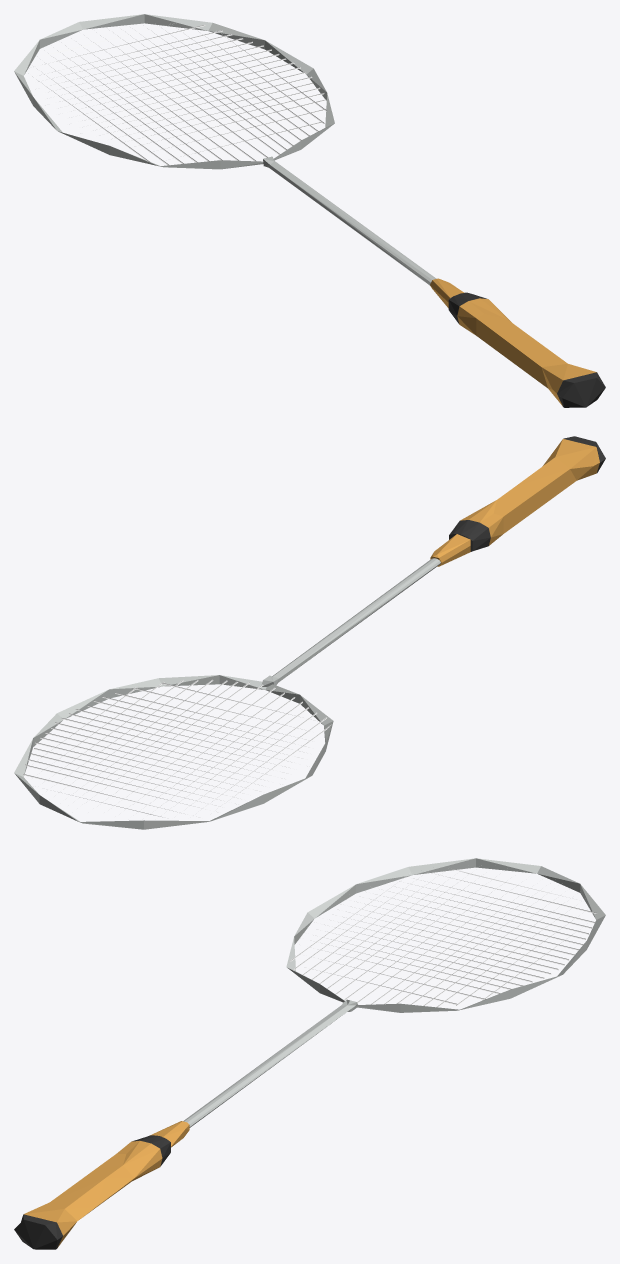
The model's file is BadmintonRacket.fbx.
3 renders of one model, top to bottom at view 1: azimuth 30°, elevation 25°; view 2: azimuth 150°, elevation 25°; view 3: azimuth 330°, elevation 25°, orthographic.
Parts seen in each view (by area): view 1: Cylinder.001; view 2: Cylinder.001; view 3: Cylinder.001.
Part boxes in pixels (bbox=[...]): Cylinder.001: bbox=[14, 14, 605, 407]; Cylinder.001: bbox=[14, 436, 605, 829]; Cylinder.001: bbox=[14, 858, 605, 1249].
Size of the model in its own units: 267 by 26.6 by 917.
